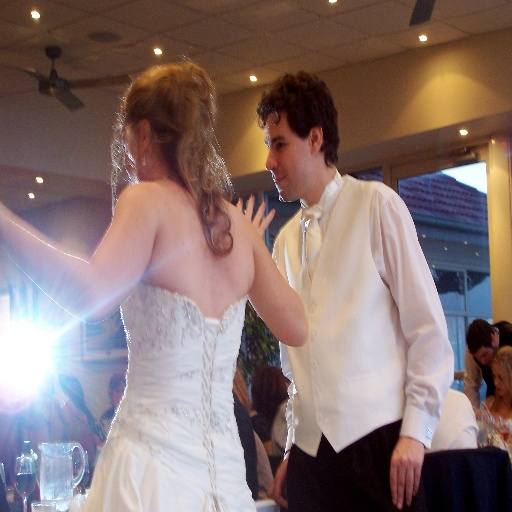hand: (397, 418, 433, 502), (234, 192, 276, 239), (269, 457, 286, 511), (42, 367, 61, 399), (477, 400, 495, 424)
